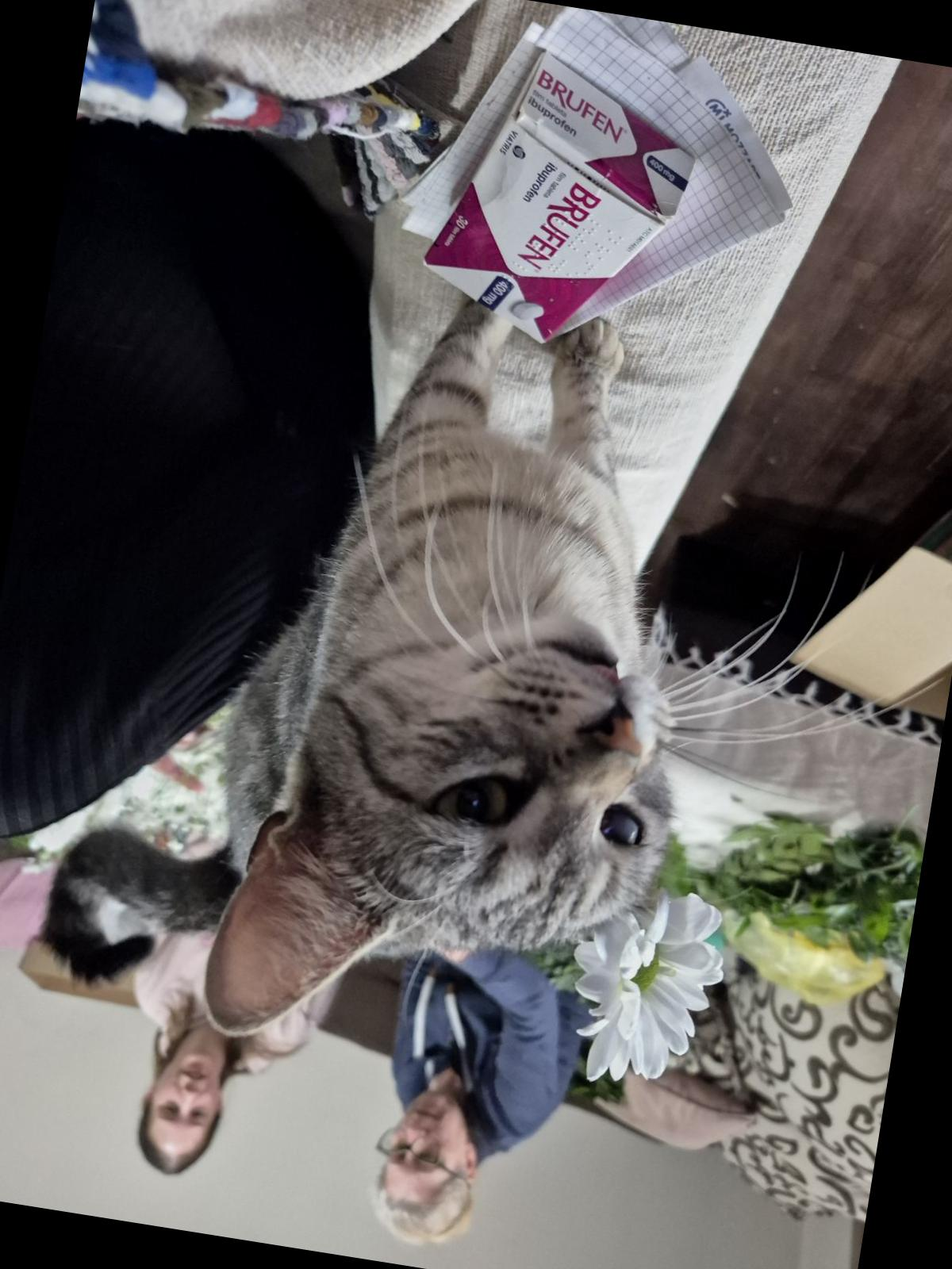macka: (172, 273, 740, 1102)
